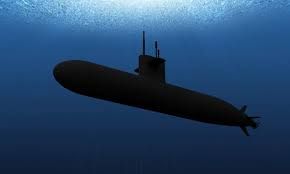Submarine: (54, 31, 260, 136)
